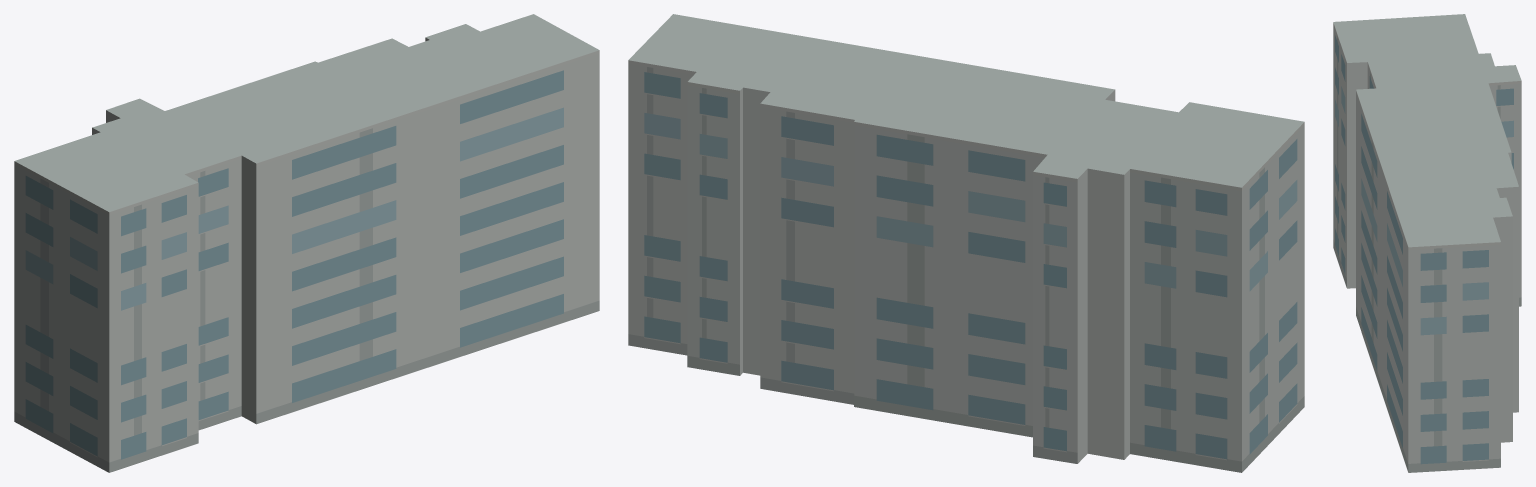
Rendered from survey-upis-32665295.glb.
The picture shows the model from 3 angles, left to right: view 1: azimuth 30°, elevation 25°; view 2: azimuth 150°, elevation 25°; view 3: azimuth 270°, elevation 25°; orthographic projection. The views are drawn at different scales.
Parts seen in each view (by area): view 1: survey-upis-32665295.tmp; view 2: survey-upis-32665295.tmp; view 3: survey-upis-32665295.tmp.
Part boxes in pixels (left/top/right/bottom): survey-upis-32665295.tmp: left=14, top=14, right=599, bottom=472; survey-upis-32665295.tmp: left=628, top=14, right=1304, bottom=472; survey-upis-32665295.tmp: left=1333, top=14, right=1521, bottom=472.
Size of the model in its own units: 45.16 by 20.35 by 15.42.
